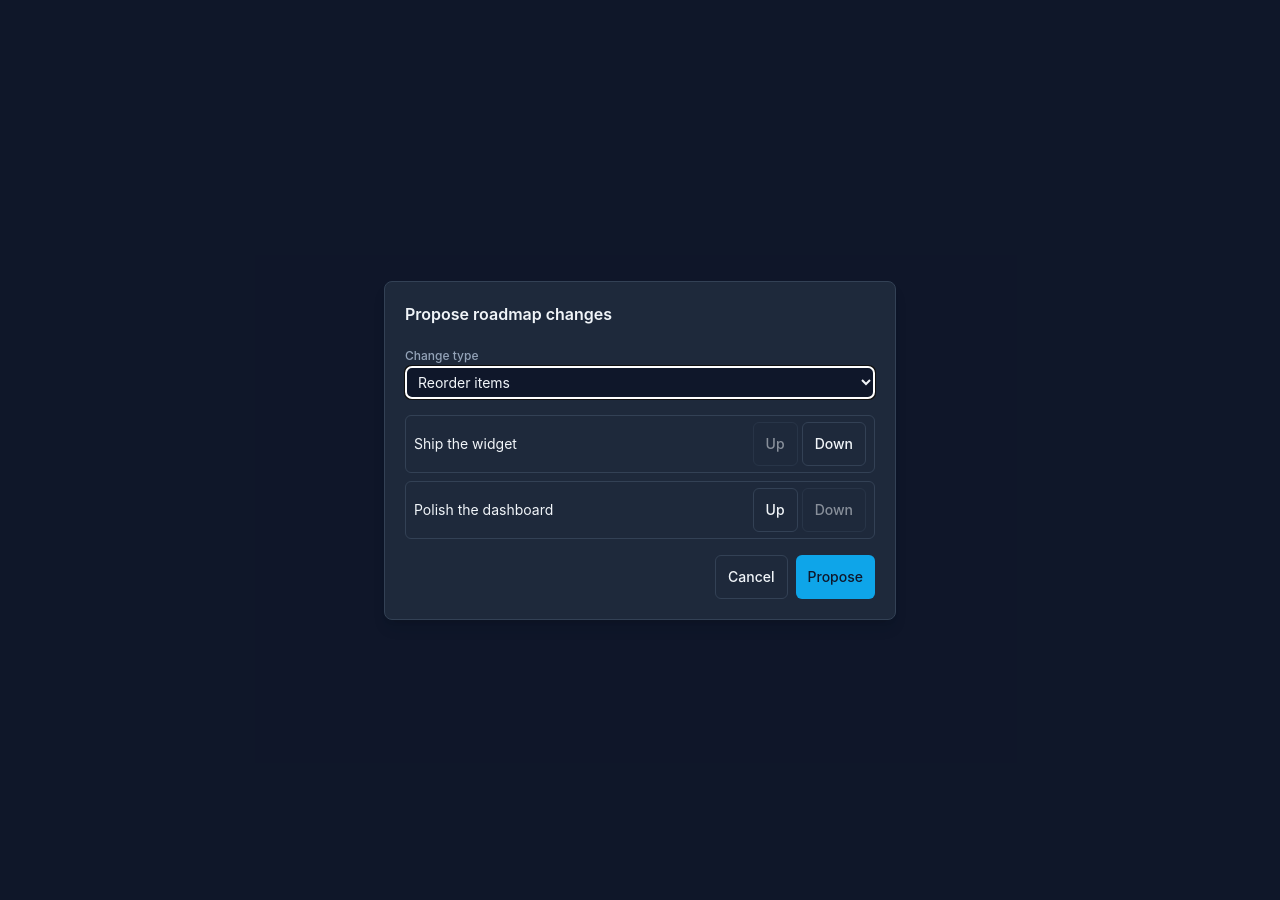
Test: ProposeRoadmapChangesModal › shows an inline error and keeps the dialog open when editing fails
Select "Edit an item" in the dropdown with test id "propose-roadmap-mode-select" at (640, 382), box [405,366,875,398]
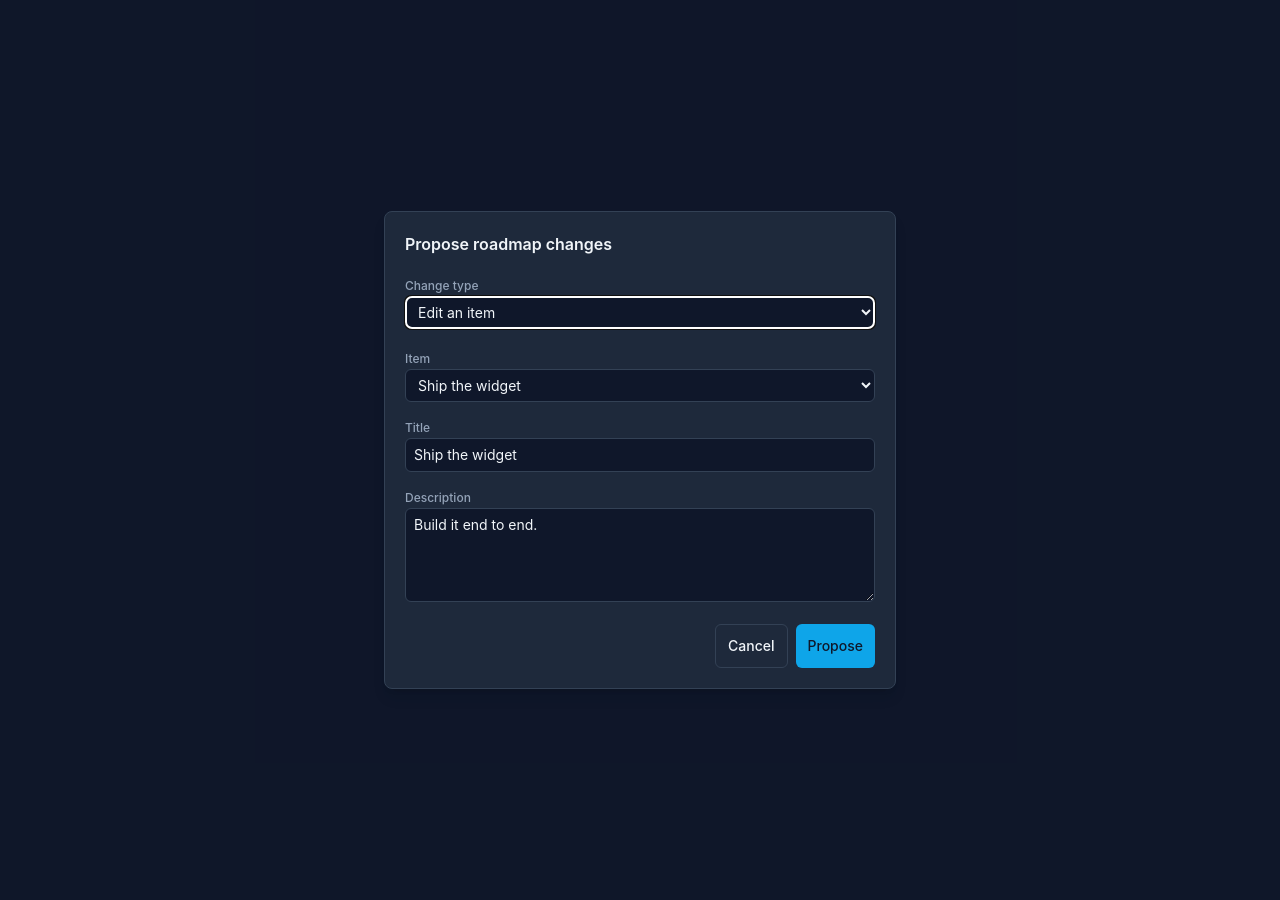
Click the button with test id "propose-roadmap-submit" at (835, 646), box [796,624,875,668]
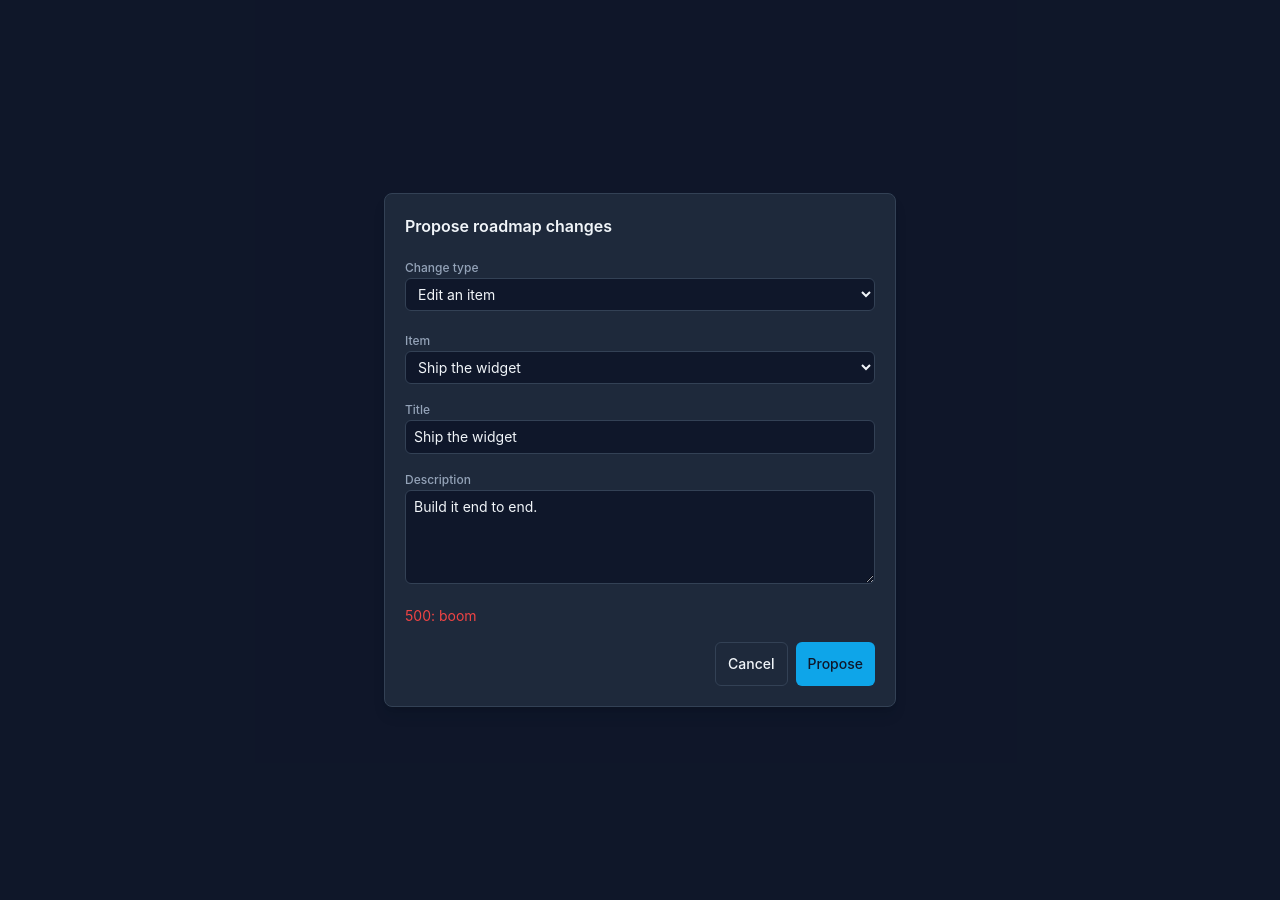
Expected: the message with test id "propose-roadmap-error" shows "500", [405,607,477,624]
